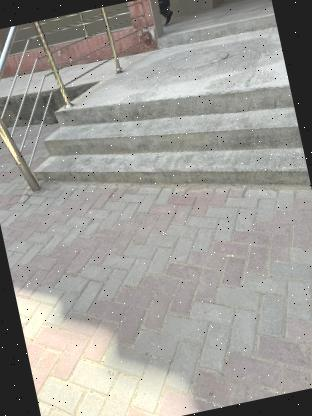stair: (25, 41, 312, 242)
